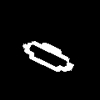chain: (23, 41, 73, 70)
